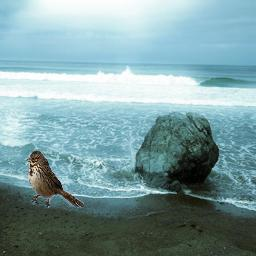Sparrow: (26, 150, 85, 209)
